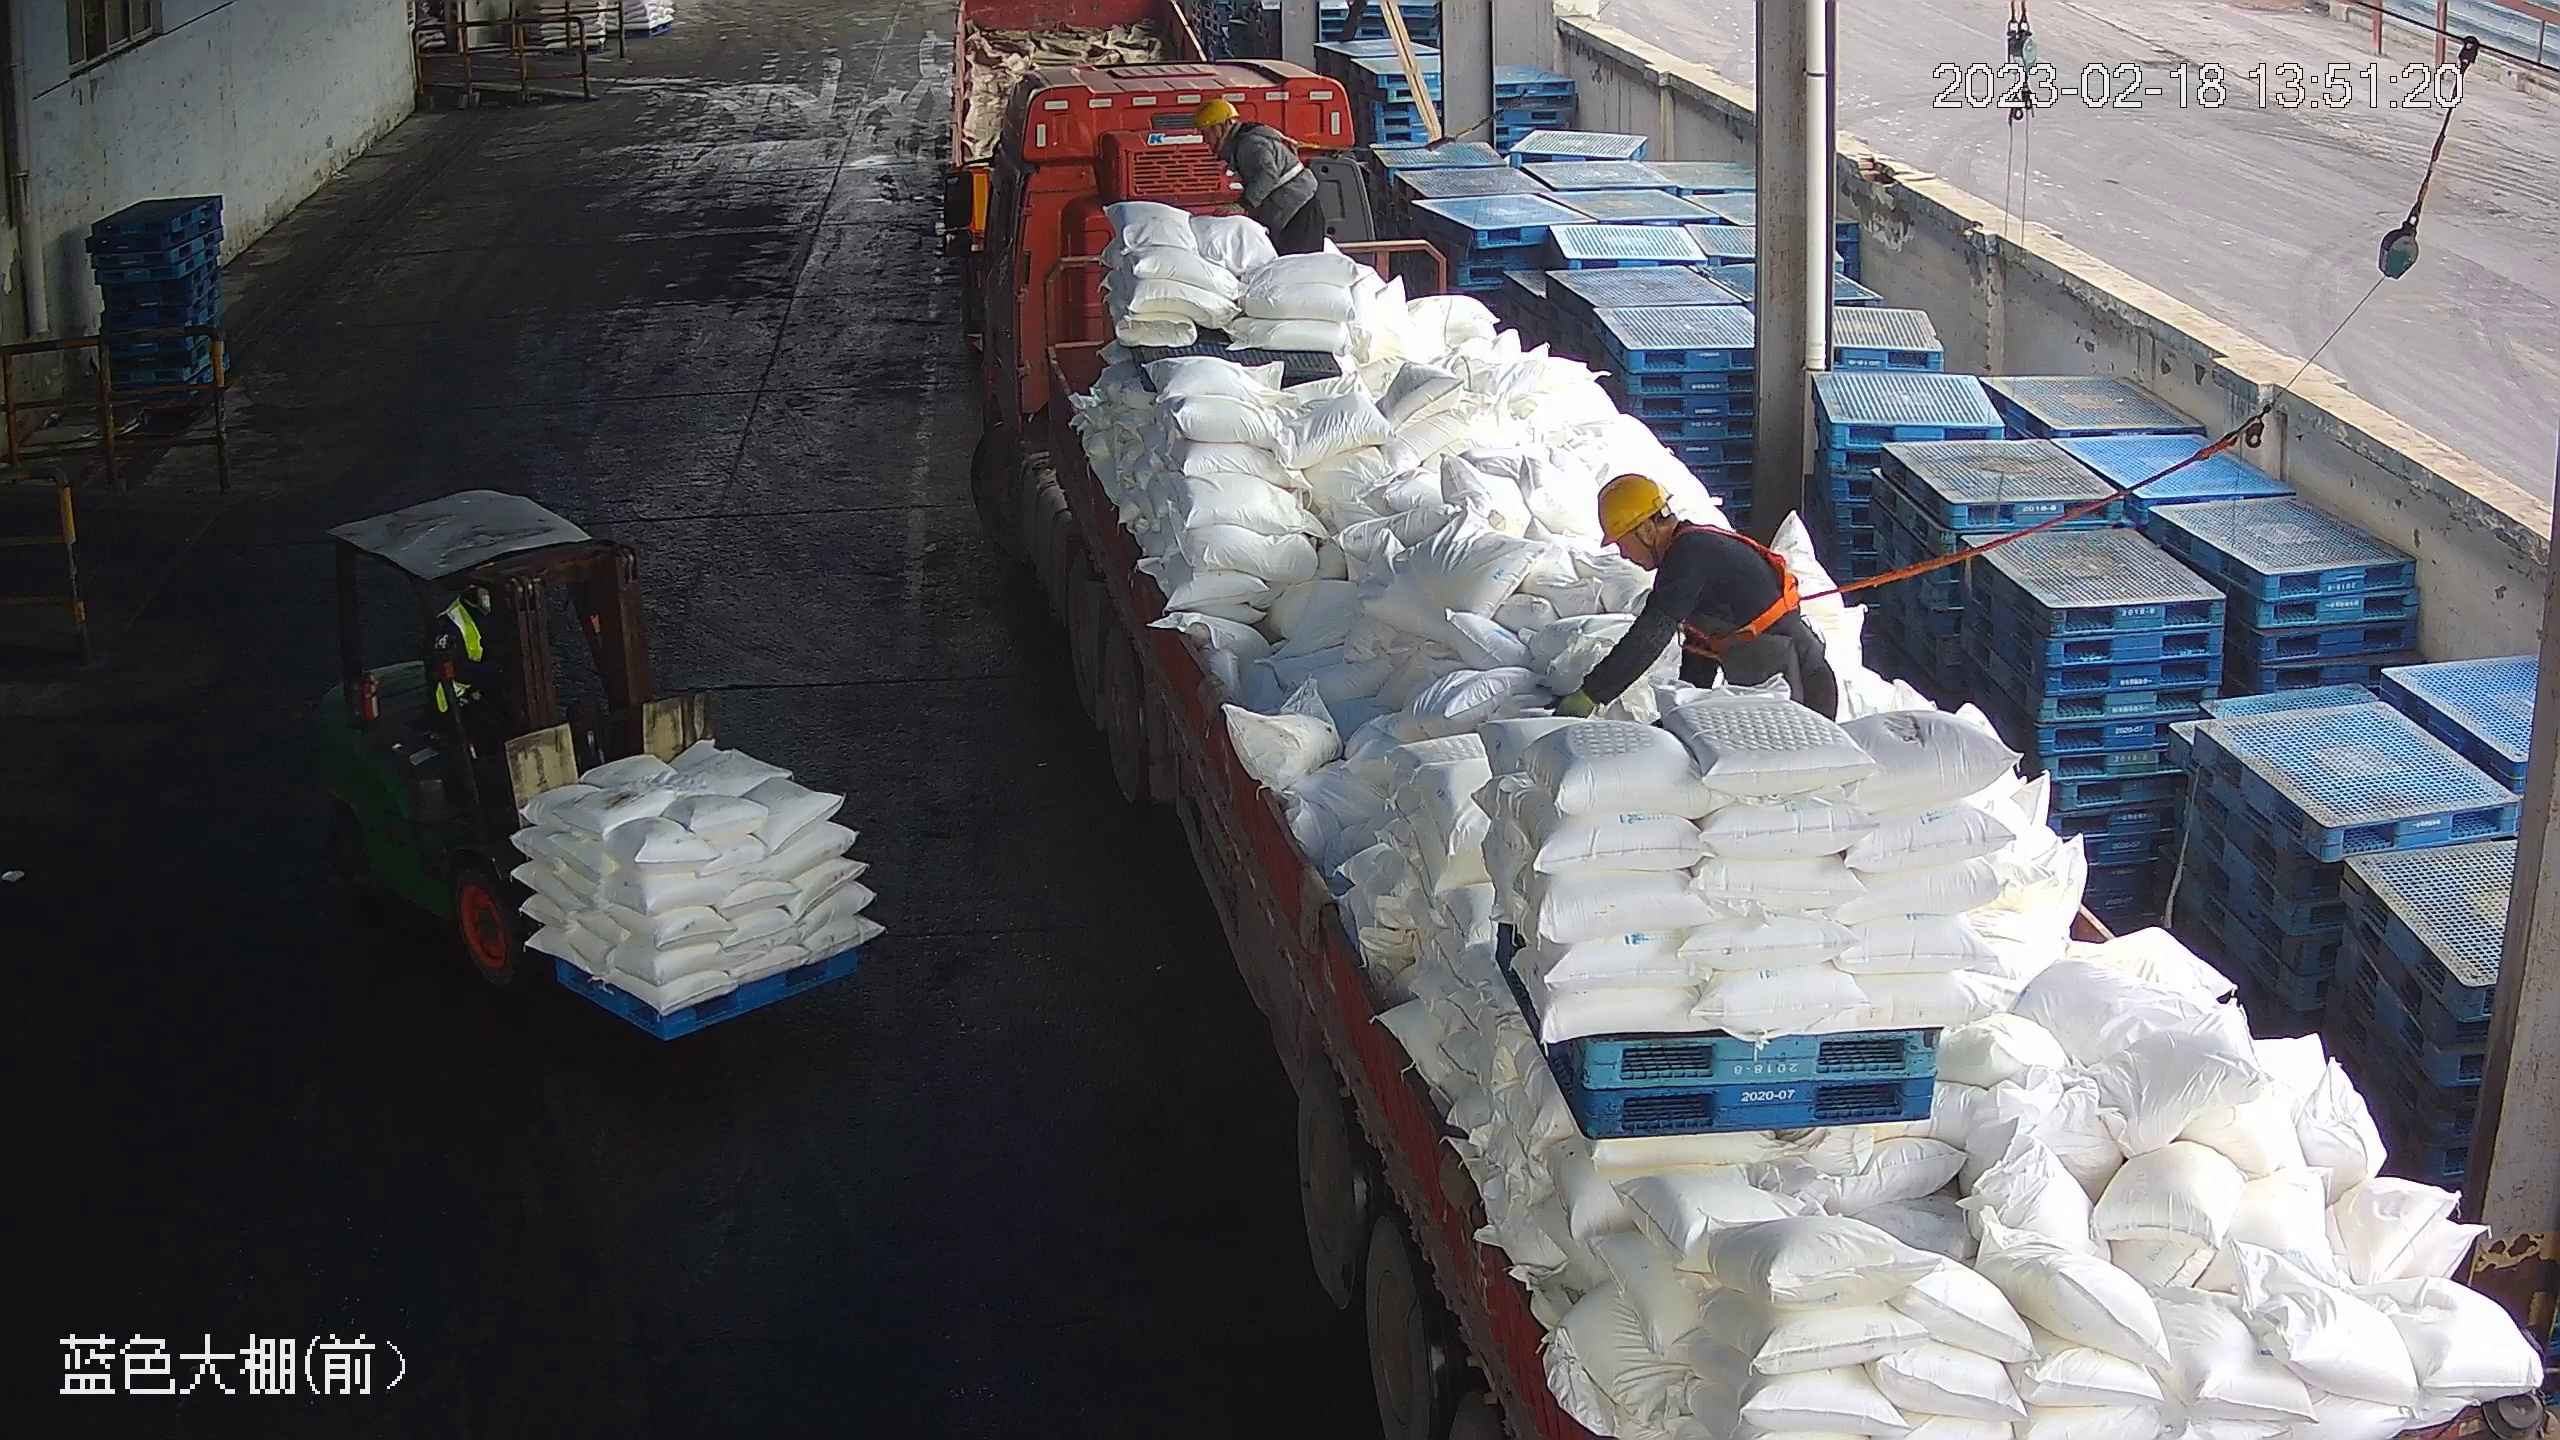belt: (1676, 510, 1827, 656), (1261, 120, 1352, 193)
head: (1596, 472, 1761, 625), (1196, 100, 1284, 174)
helmet: (1596, 474, 1676, 547), (1198, 98, 1237, 132)
people: (1544, 467, 1844, 723), (1195, 96, 1332, 256)
truck: (937, 59, 2560, 1440)
